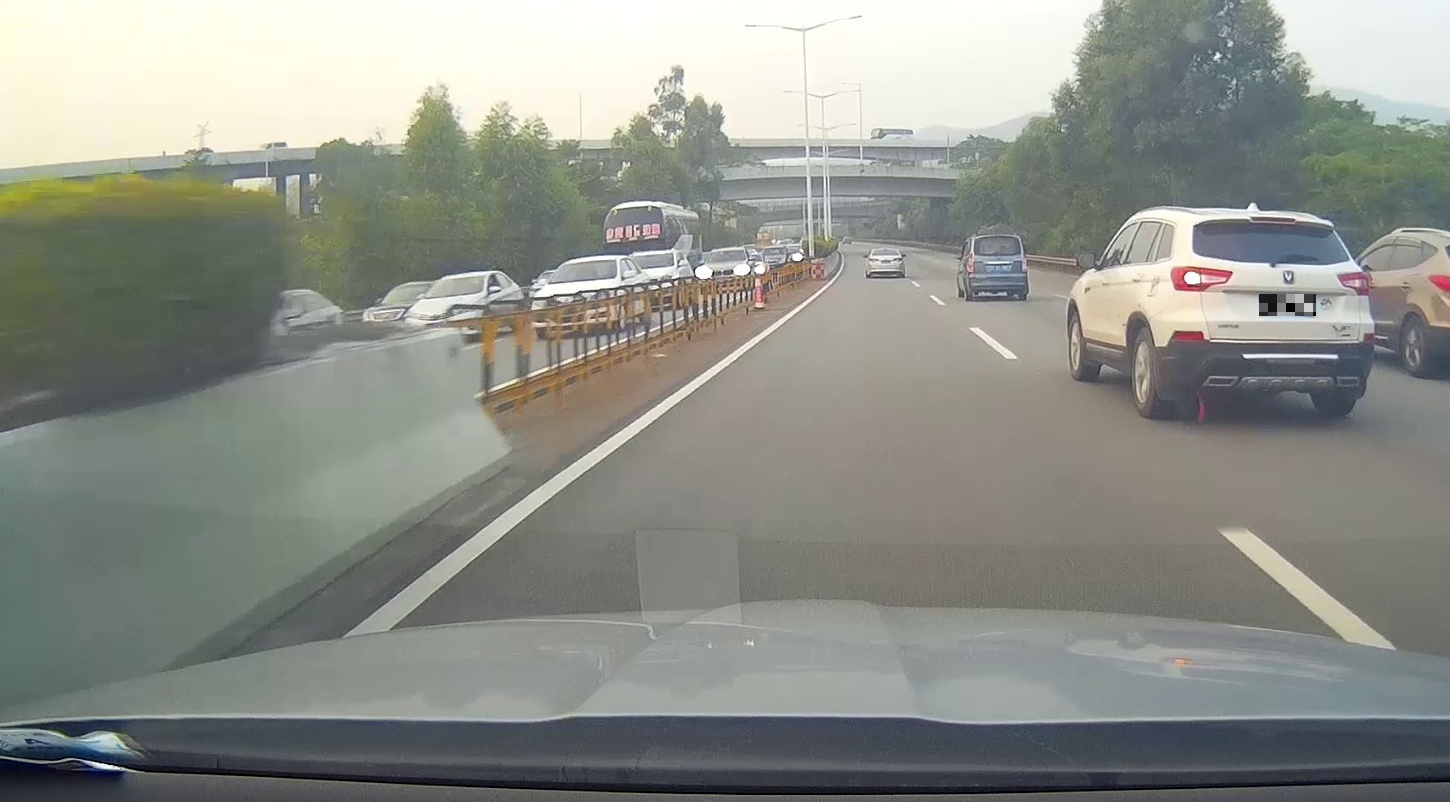L_light: (1170, 266, 1232, 292), (967, 253, 975, 273), (869, 258, 878, 261)
R_light: (1335, 272, 1370, 296), (1022, 255, 1028, 271), (894, 258, 903, 261)
T_light: (1251, 216, 1296, 224), (994, 251, 1006, 254), (884, 250, 890, 252)
day-left: (1166, 208, 1376, 418)
day-no: (965, 234, 1029, 301), (865, 248, 905, 278)
plate_1: (1259, 294, 1316, 316)
